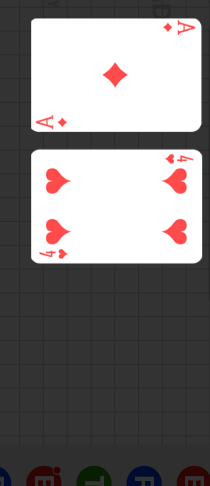4H: (38, 246, 70, 260)
AD: (160, 20, 196, 38)
